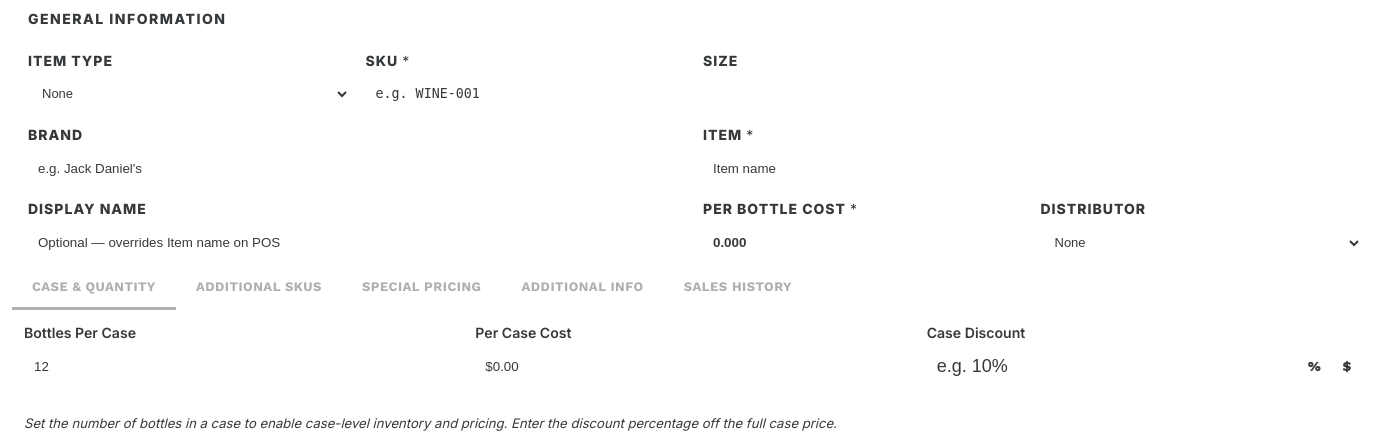
Test: ItemForm › shows inline SKU existence warning after debounce for cloud-only items
The width and height of the screenshot is (1376, 448).
Type "SKU-CLOUD" into the field named "SKU".
click(526, 94); type("SKU-CLOUD")  # box [366,76,687,112]
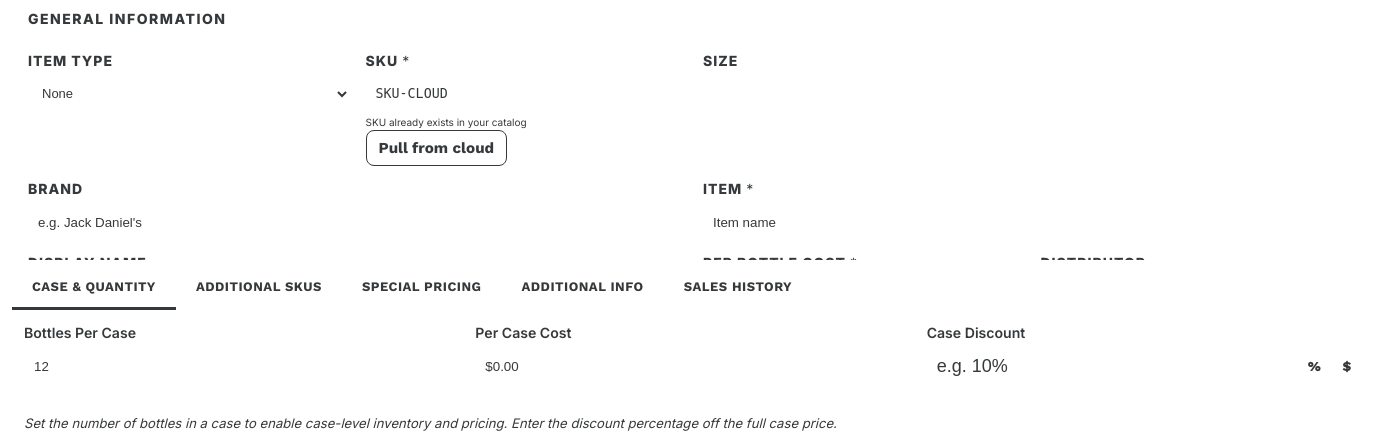
Check: the text "SKU already exists in your catalog" is shown, box [366,116,527,128]
Check: the button "Pull from cloud" is shown, box [366,130,507,166]
